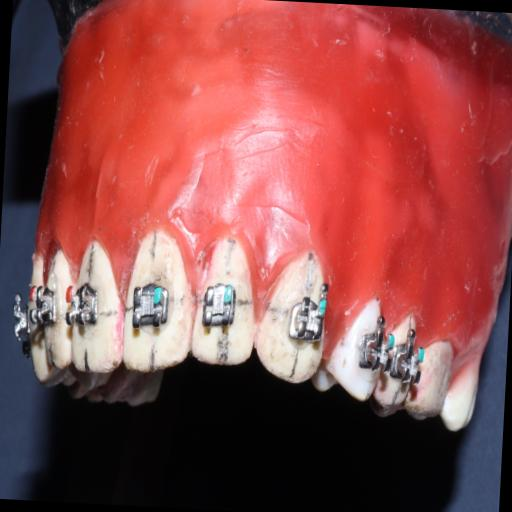incorrect_brace: (193, 237, 260, 364), (200, 282, 240, 332), (289, 296, 325, 342)
